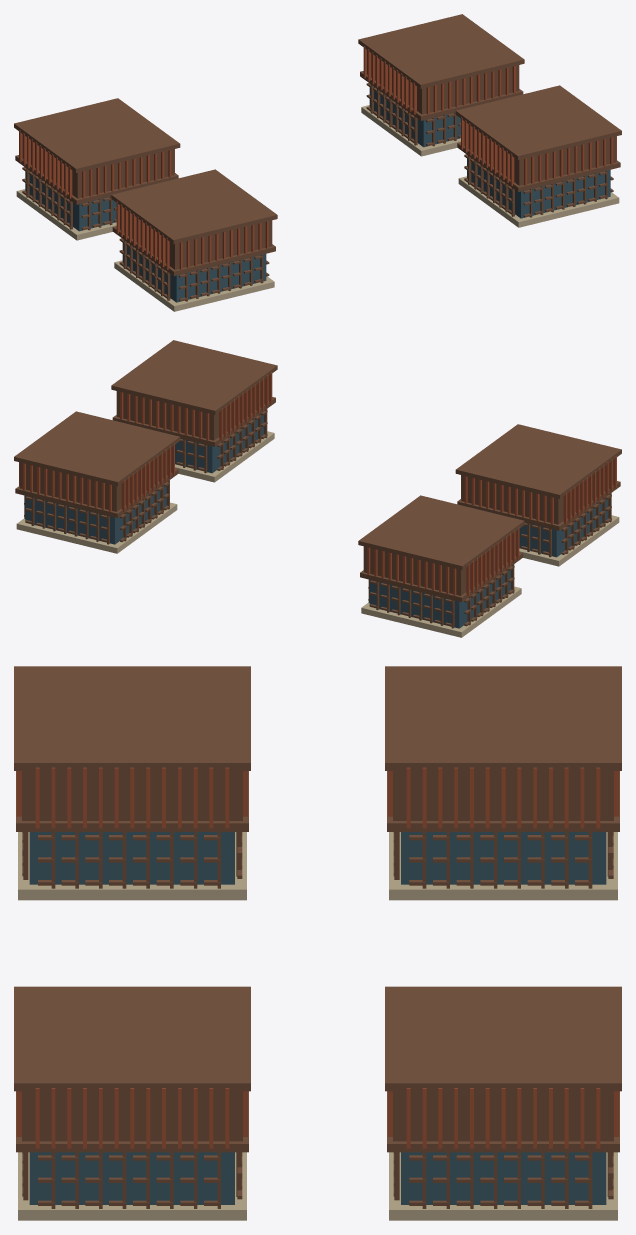
Rendered from KOL_T1_SONAR__Tea_Pavilions.fbx.
3 renders of one model, top to bottom at view 1: azimuth 30°, elevation 25°; view 2: azimuth 150°, elevation 25°; view 3: azimuth 270°, elevation 25°, orthographic. The views are drawn at different scales.
Parts seen in each view (by area): view 1: KOL_T1_SONAR__Tea_Pavilions__KOL_T1_Louvre, KOL_T1_SONAR__Tea_Pavilions__KOL_T1_Terra, KOL_T1_SONAR__Tea_Pavilions__KOL_T1_Glass, KOL_T1_SONAR__Tea_Pavilions__KOL_T1_Stone, KOL_T1_SONAR__Tea_Pavilions__KOL_T1_Louvre.001; view 2: KOL_T1_SONAR__Tea_Pavilions__KOL_T1_Louvre, KOL_T1_SONAR__Tea_Pavilions__KOL_T1_Terra, KOL_T1_SONAR__Tea_Pavilions__KOL_T1_Glass, KOL_T1_SONAR__Tea_Pavilions__KOL_T1_Stone; view 3: KOL_T1_SONAR__Tea_Pavilions__KOL_T1_Louvre, KOL_T1_SONAR__Tea_Pavilions__KOL_T1_Glass, KOL_T1_SONAR__Tea_Pavilions__KOL_T1_Stone, KOL_T1_SONAR__Tea_Pavilions__KOL_T1_Terra, KOL_T1_SONAR__Tea_Pavilions__KOL_T1_Louvre.001.
Part boxes in pixels (box(x1,y1,x2,y2)): KOL_T1_SONAR__Tea_Pavilions__KOL_T1_Louvre: box(14, 14, 621, 301); KOL_T1_SONAR__Tea_Pavilions__KOL_T1_Terra: box(19, 46, 616, 269); KOL_T1_SONAR__Tea_Pavilions__KOL_T1_Glass: box(25, 87, 610, 302); KOL_T1_SONAR__Tea_Pavilions__KOL_T1_Stone: box(16, 105, 619, 311); KOL_T1_SONAR__Tea_Pavilions__KOL_T1_Louvre.001: box(464, 154, 613, 217); KOL_T1_SONAR__Tea_Pavilions__KOL_T1_Louvre: box(14, 340, 621, 628); KOL_T1_SONAR__Tea_Pavilions__KOL_T1_Terra: box(19, 372, 616, 595); KOL_T1_SONAR__Tea_Pavilions__KOL_T1_Glass: box(25, 415, 608, 628); KOL_T1_SONAR__Tea_Pavilions__KOL_T1_Stone: box(16, 431, 619, 637); KOL_T1_SONAR__Tea_Pavilions__KOL_T1_Louvre: box(14, 666, 621, 1208); KOL_T1_SONAR__Tea_Pavilions__KOL_T1_Glass: box(29, 832, 606, 1204); KOL_T1_SONAR__Tea_Pavilions__KOL_T1_Stone: box(18, 832, 617, 1220); KOL_T1_SONAR__Tea_Pavilions__KOL_T1_Terra: box(16, 767, 619, 1148); KOL_T1_SONAR__Tea_Pavilions__KOL_T1_Louvre.001: box(22, 1152, 220, 1208).
Bounding box in the file's own units: 125 × 19.4 × 77.
